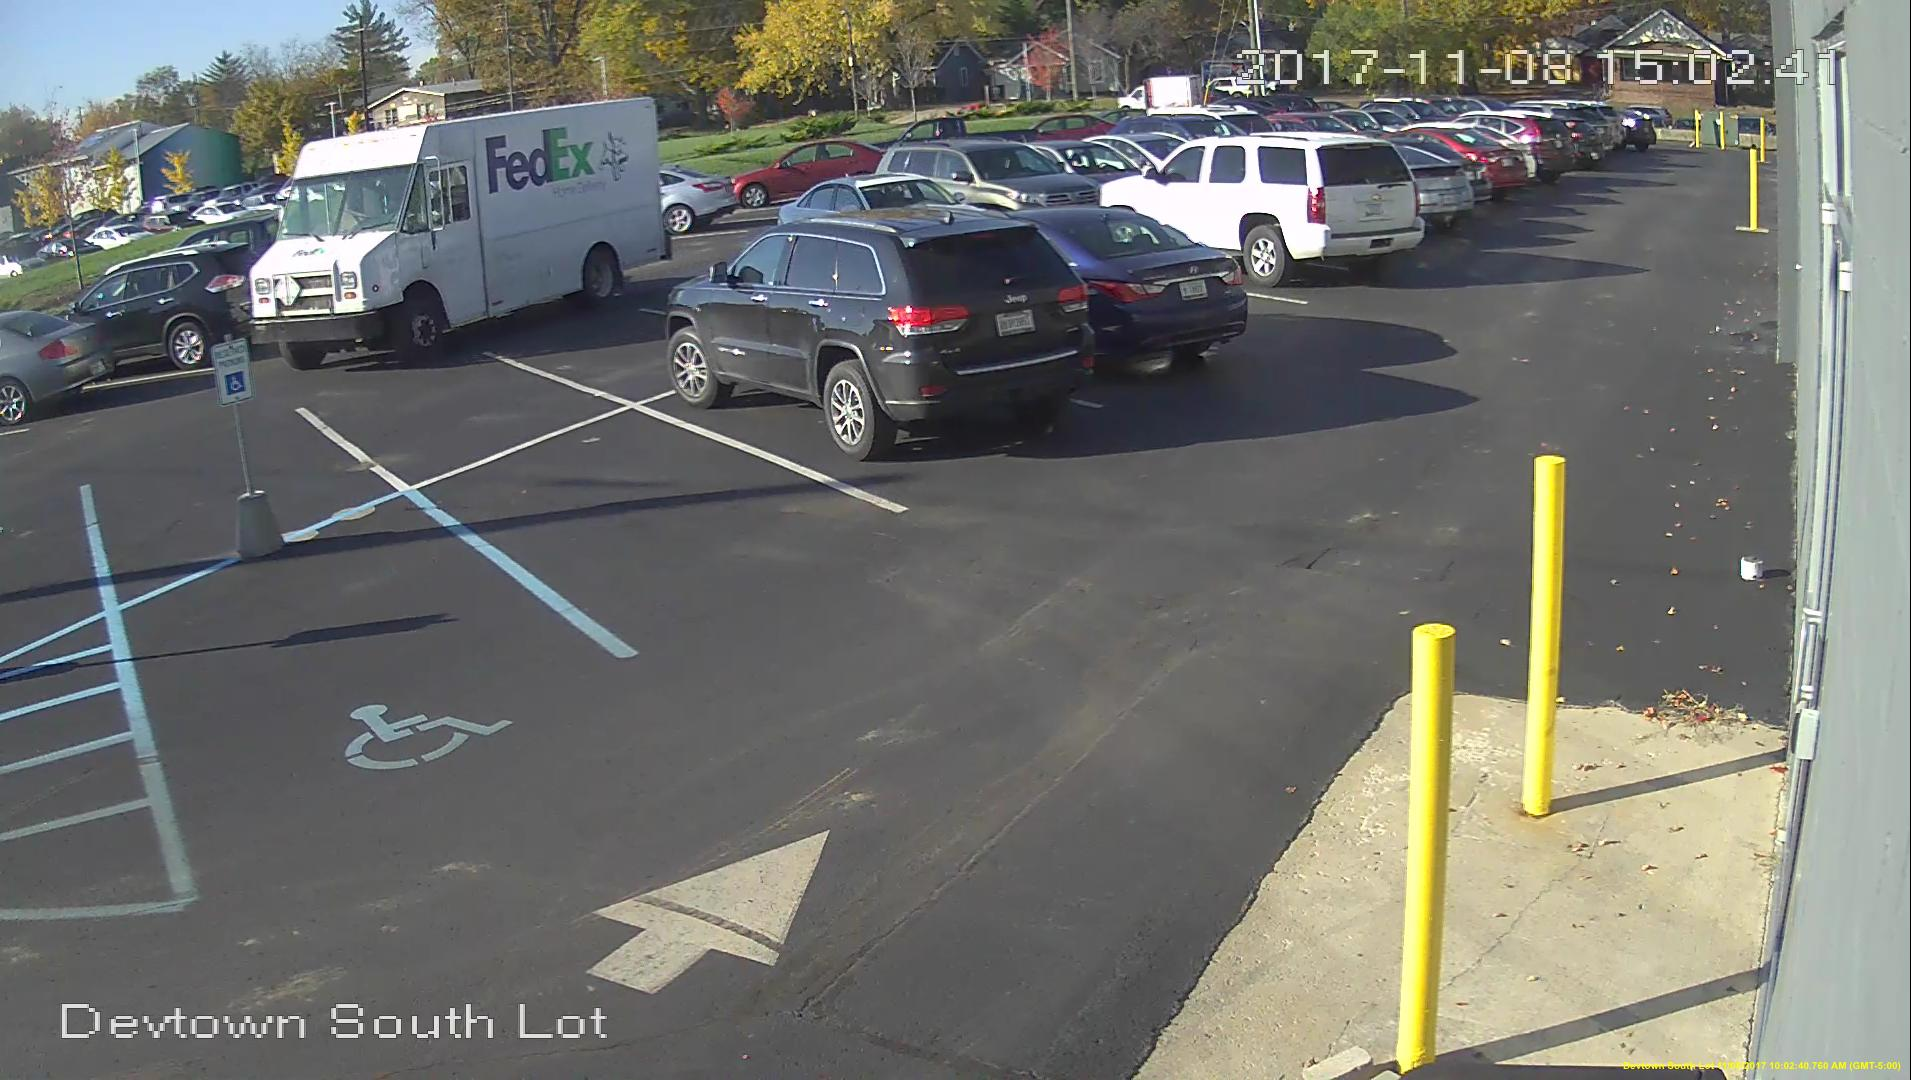fedex_truck: (244, 94, 685, 367)
